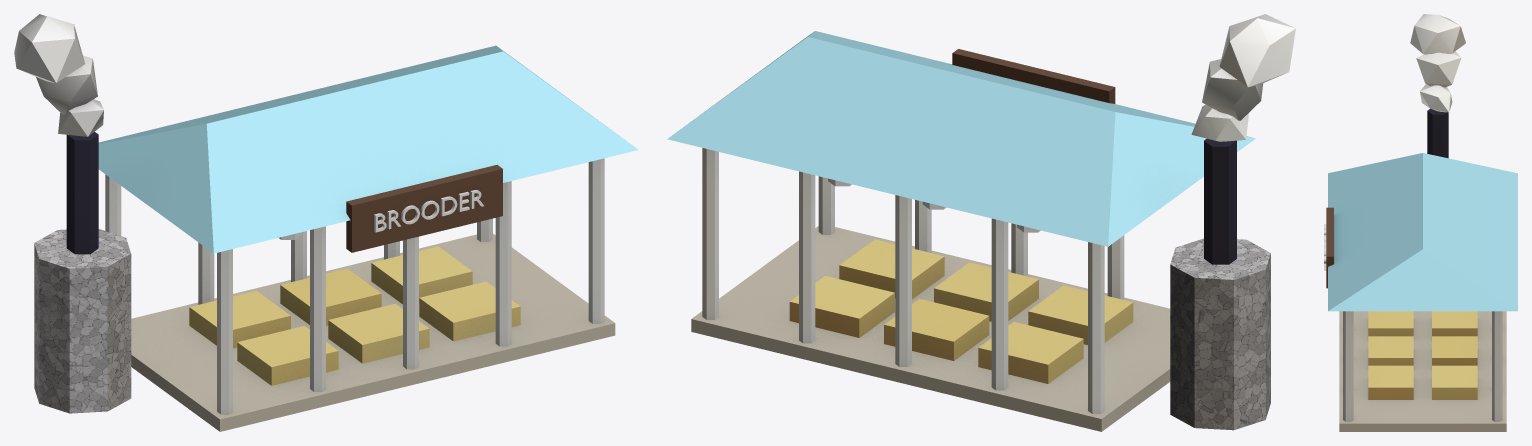
The model's file is home_brooder_3.fbx.
3 views of the same model, side by side, from view 1: azimuth 30°, elevation 25°; view 2: azimuth 150°, elevation 25°; view 3: azimuth 270°, elevation 25° (orthographic). The views are drawn at different scales.
Parts seen in each view (by area): view 1: home_brooder_3_body; view 2: home_brooder_3_body; view 3: home_brooder_3_body.
Part boxes in pixels (x1,y1,x2,y2): home_brooder_3_body: (14,14,638,431); home_brooder_3_body: (667,14,1295,431); home_brooder_3_body: (1324,14,1517,431).
Size of the model in its own units: 2730 by 1862 by 1275.
Materials: 2 (1 with a texture image).
